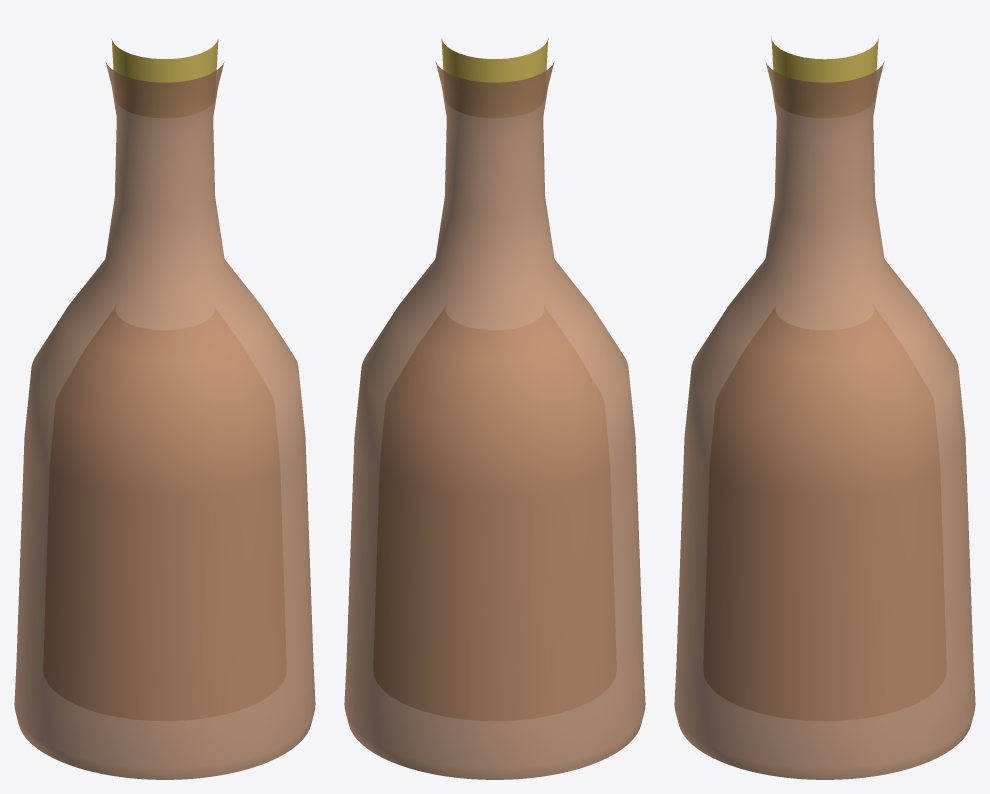
The model's file is glenfiddich-21-reserva.glb.
3 renders of one model, left to right at view 1: azimuth 30°, elevation 25°; view 2: azimuth 150°, elevation 25°; view 3: azimuth 270°, elevation 25°, orthographic.
Parts seen in each view (by area): view 1: body, cap; view 2: body, cap; view 3: body, cap.
Boxes of the visible parts, bbox=[...] form: body: bbox=[14, 62, 315, 779]; cap: bbox=[111, 38, 218, 82]; body: bbox=[344, 62, 645, 779]; cap: bbox=[441, 38, 548, 82]; body: bbox=[674, 62, 975, 779]; cap: bbox=[771, 38, 878, 82].
Bounding box in the file's own units: 0.45 × 1.12 × 0.45.
